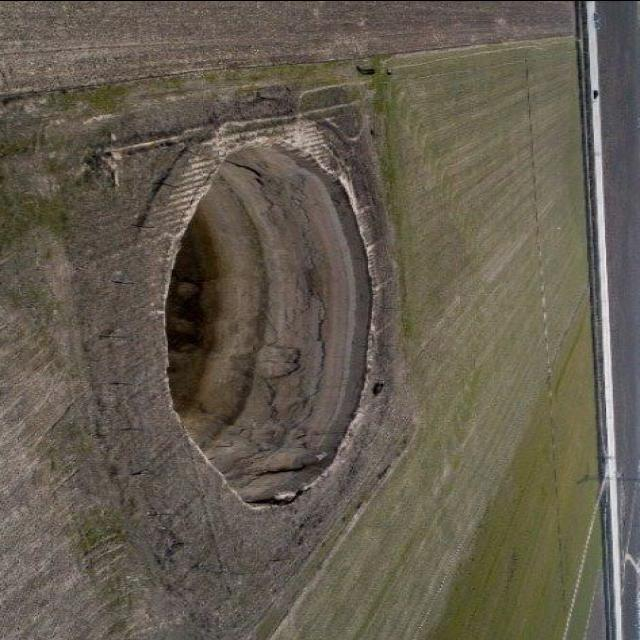lubang: (123, 92, 407, 538)
